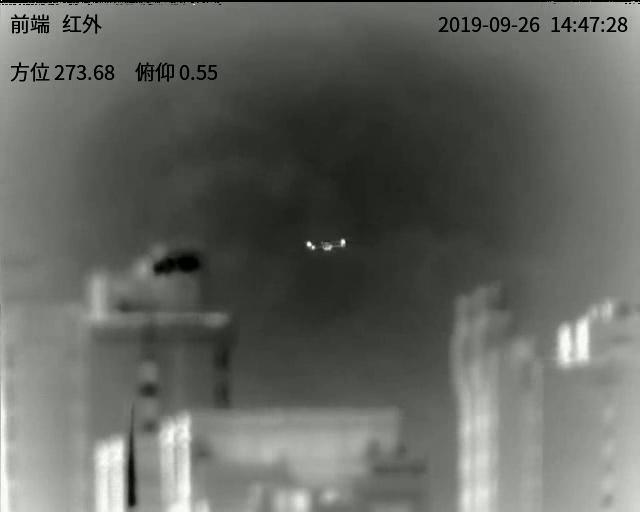DRONE: (303, 237, 348, 255)
